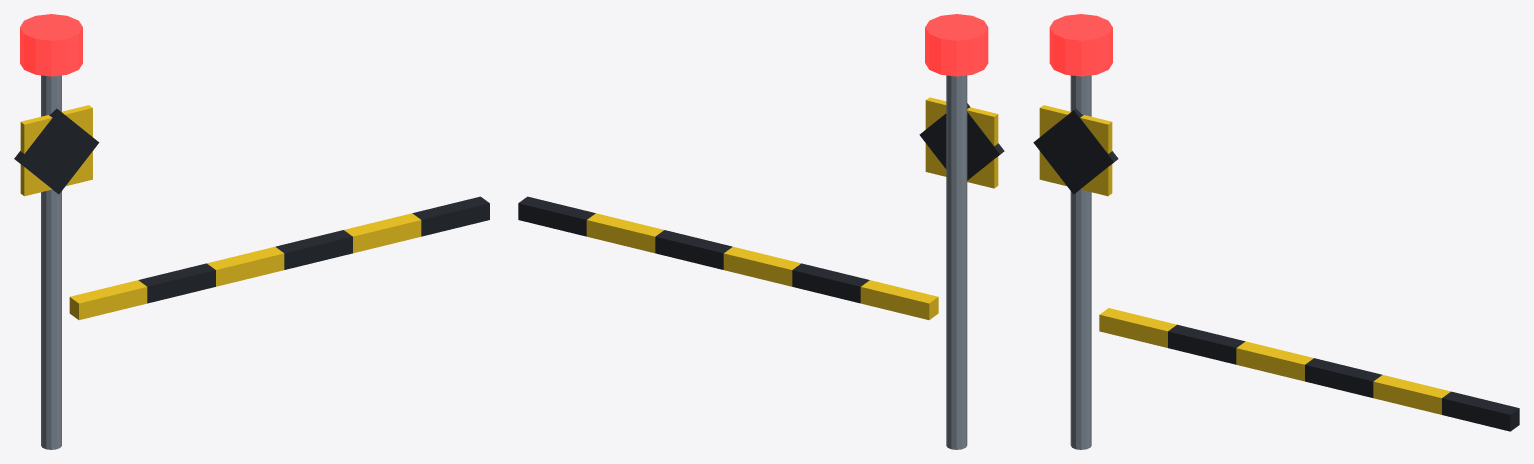
Rendered from tug-crossing.glb.
3 views of the same model, side by side, from view 1: azimuth 30°, elevation 25°; view 2: azimuth 150°, elevation 25°; view 3: azimuth 330°, elevation 25° (orthographic).
Parts seen in each view (by area): view 1: tug-crossing; view 2: tug-crossing; view 3: tug-crossing.
Boxes of the visible parts, x1=… form: tug-crossing: x1=14, y1=14, x2=489, y2=449; tug-crossing: x1=518, y1=14, x2=1004, y2=449; tug-crossing: x1=1033, y1=14, x2=1519, y2=449.
Bounding box in the file's own units: 4.15 × 3.5 × 0.48.
